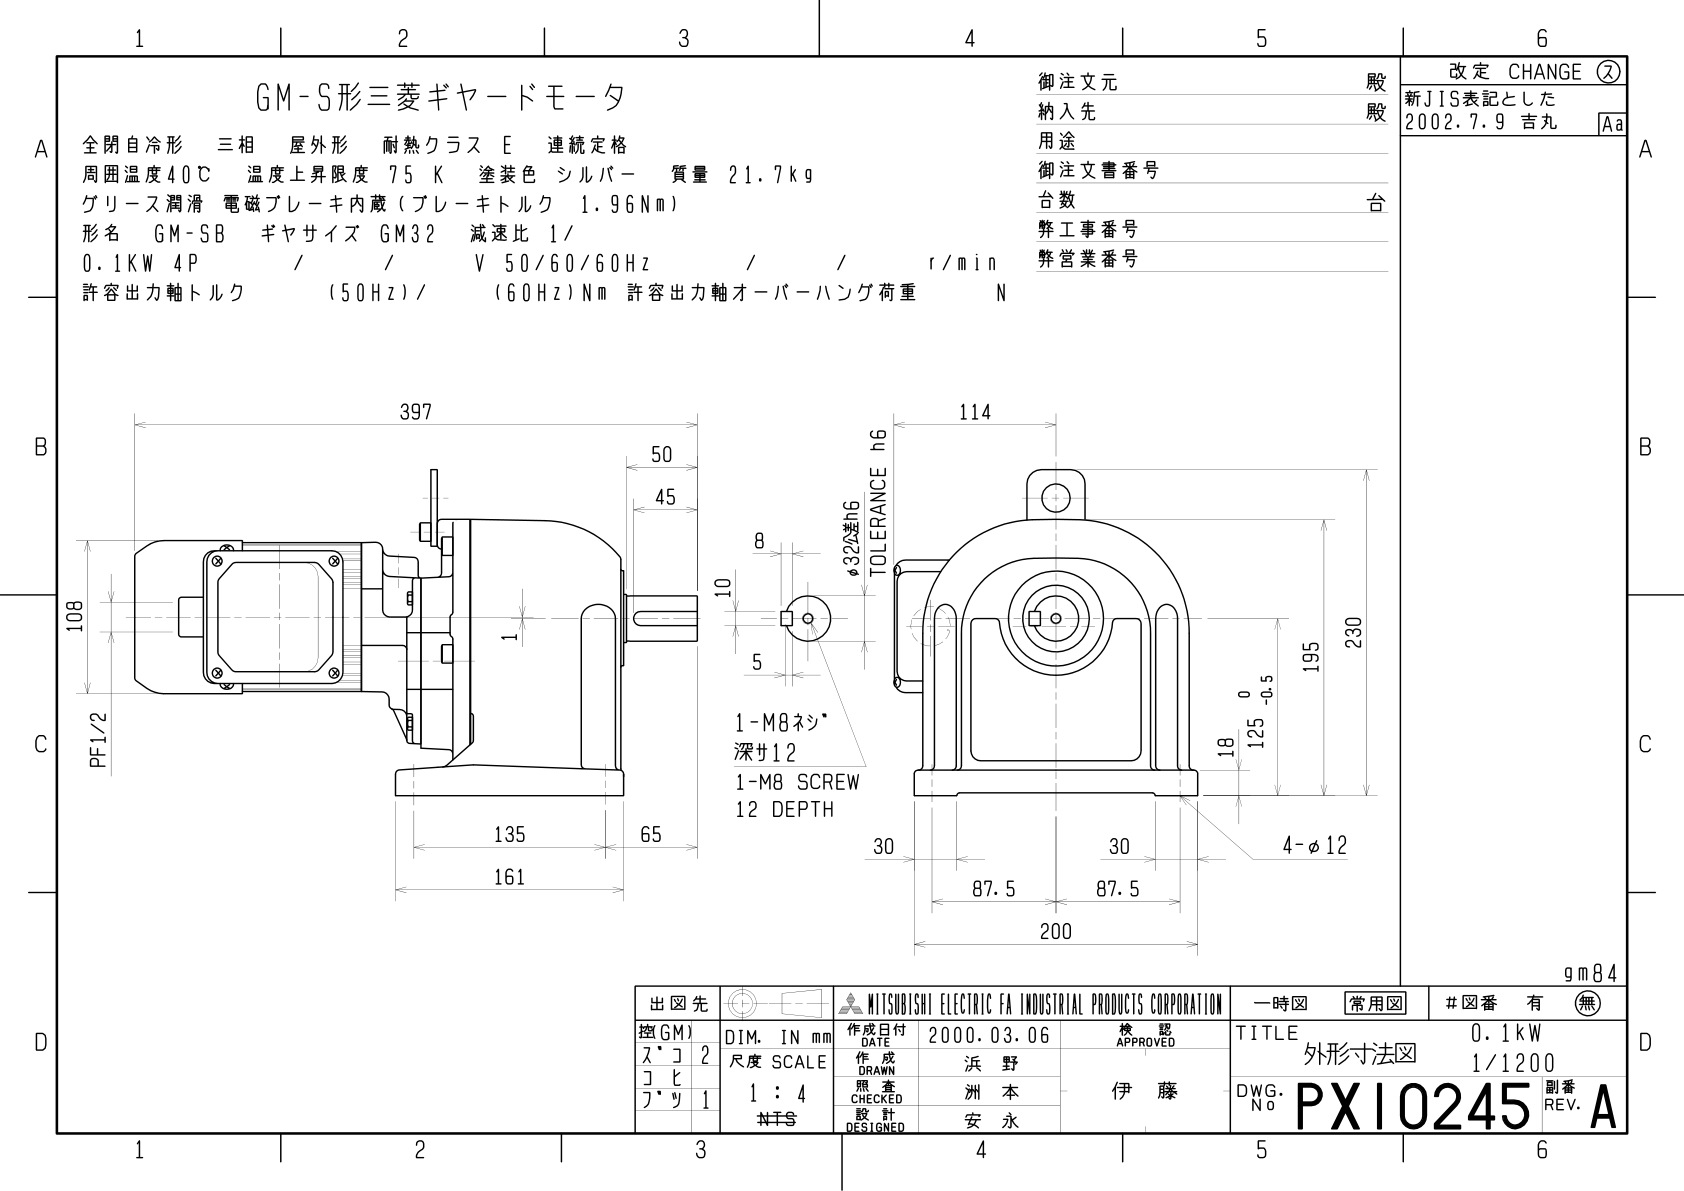GM_S_屋外＿三相_脚: (8, 3, 1684, 1191)
